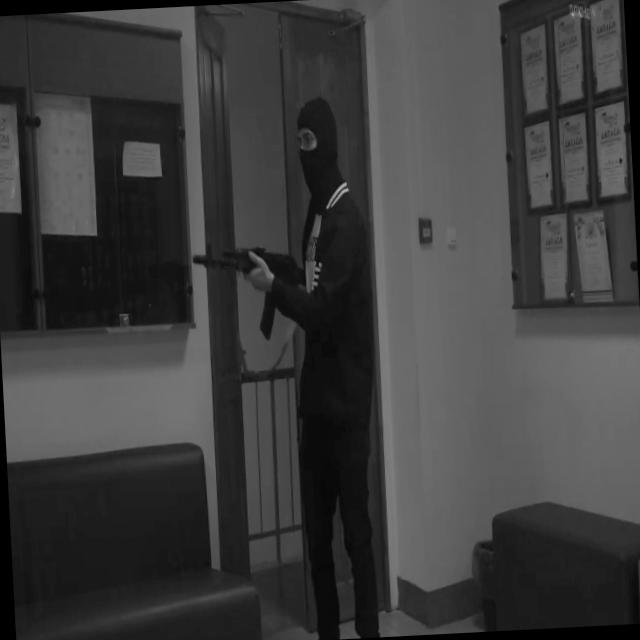gun: (191, 237, 314, 346)
person with a gun: (183, 95, 391, 640)
